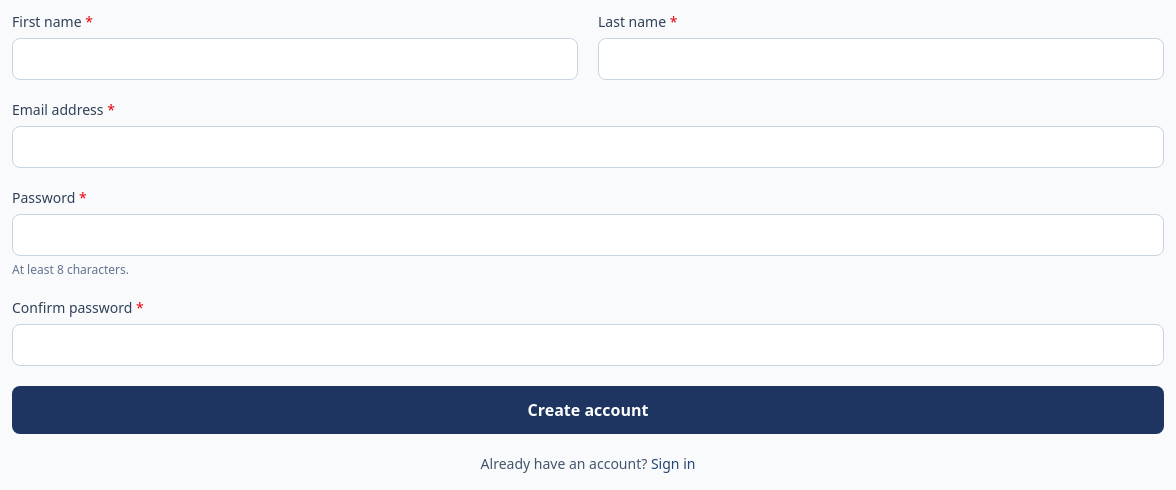
Test: SignupForm › shows a neutral confirmation screen when email confirmation is required
Type "Ada" into the field labelled "First name *". click: (295, 59)
box: [12,38,578,80]
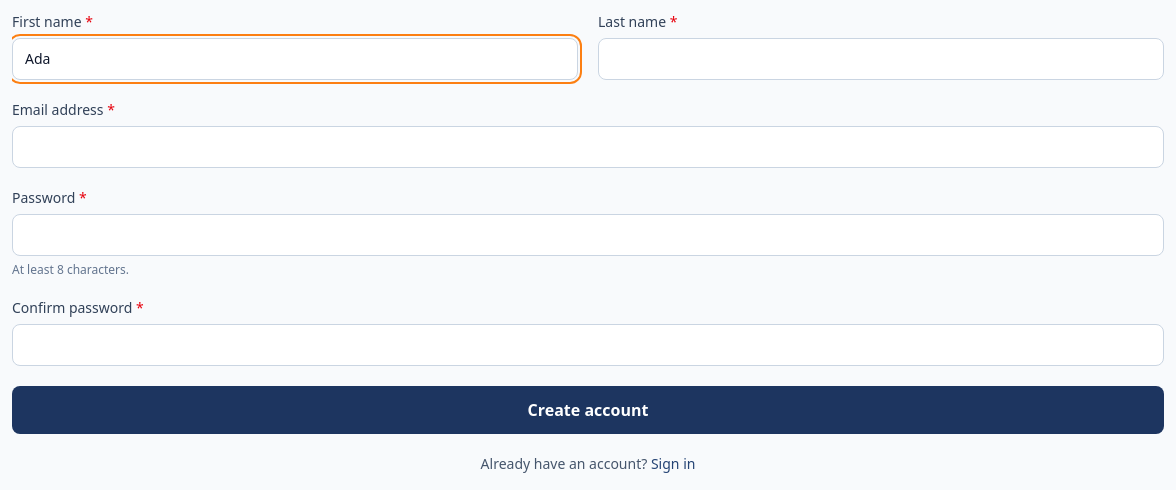
Type "Alpha" into the field labelled "Last name *". click: (881, 59)
box: [598,38,1164,80]
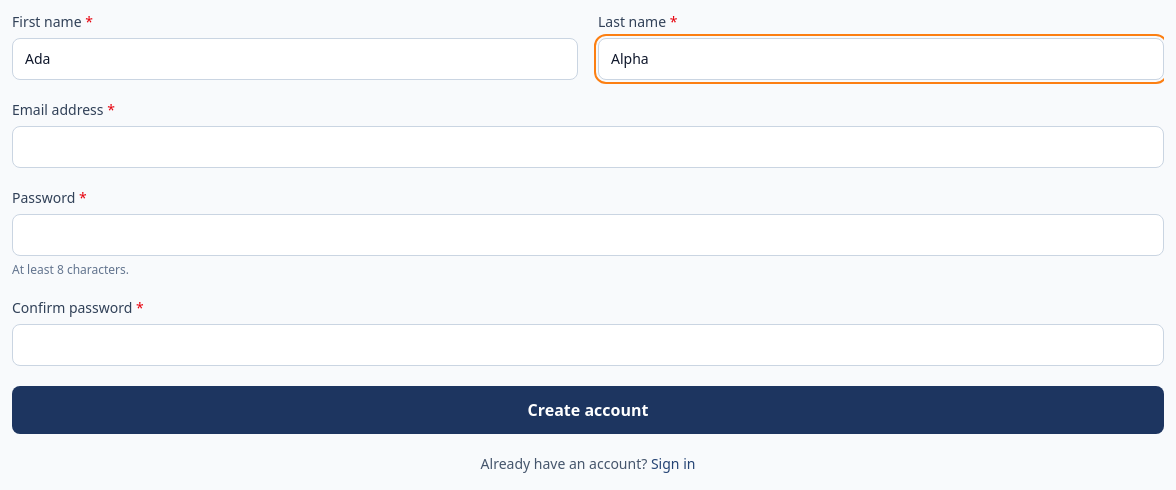
Type "ada@example.com" into the field labelled "Email address *". click: (588, 147)
box: [12,126,1164,168]
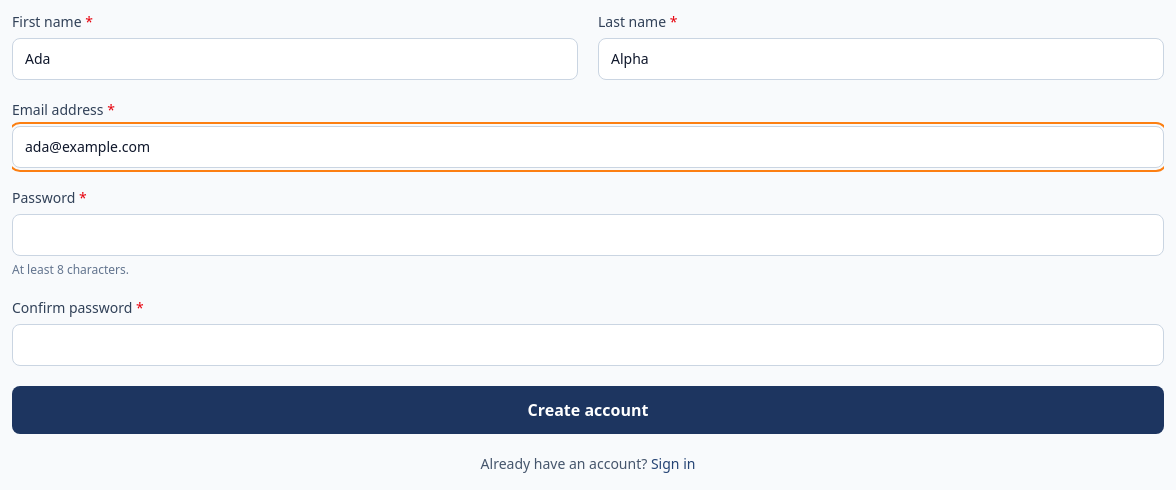
Type "correct-horse" into the password field labelled "Password *". click: (588, 235)
box: [12,214,1164,256]
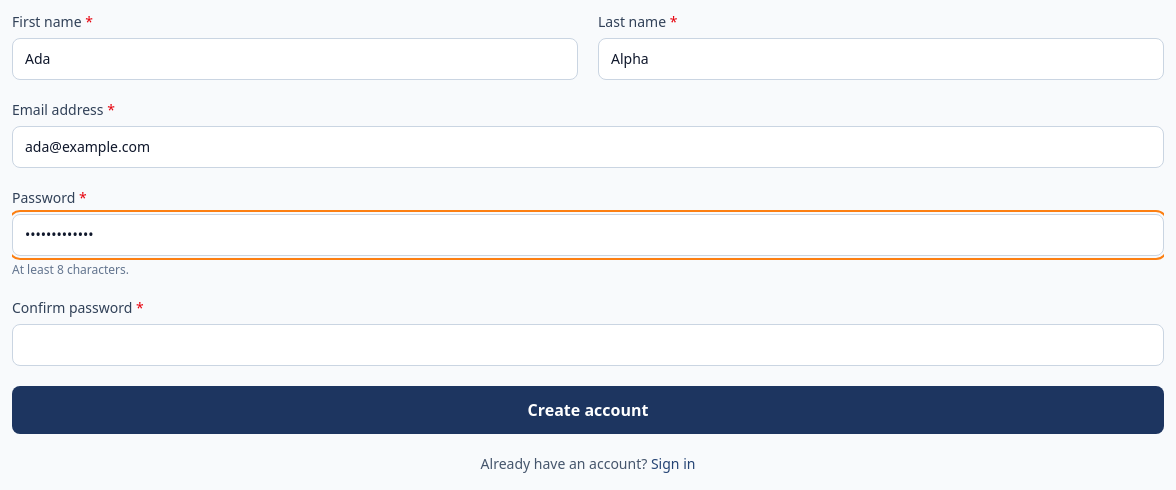
Type "correct-horse" into the password field labelled "Confirm password *". click: (588, 345)
box: [12,324,1164,366]
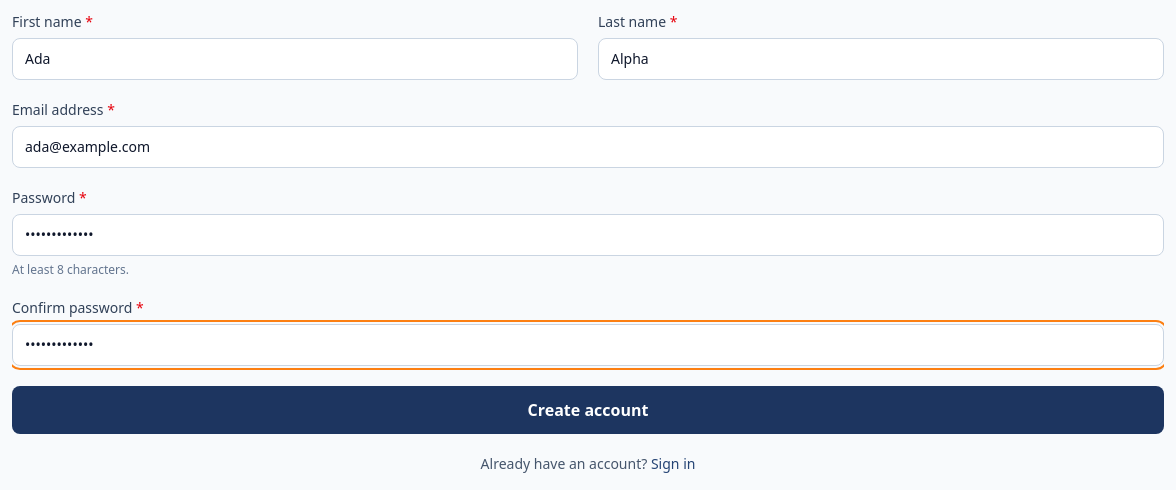
Click the button "Create account". click: (588, 410)
box: [12,386,1164,434]
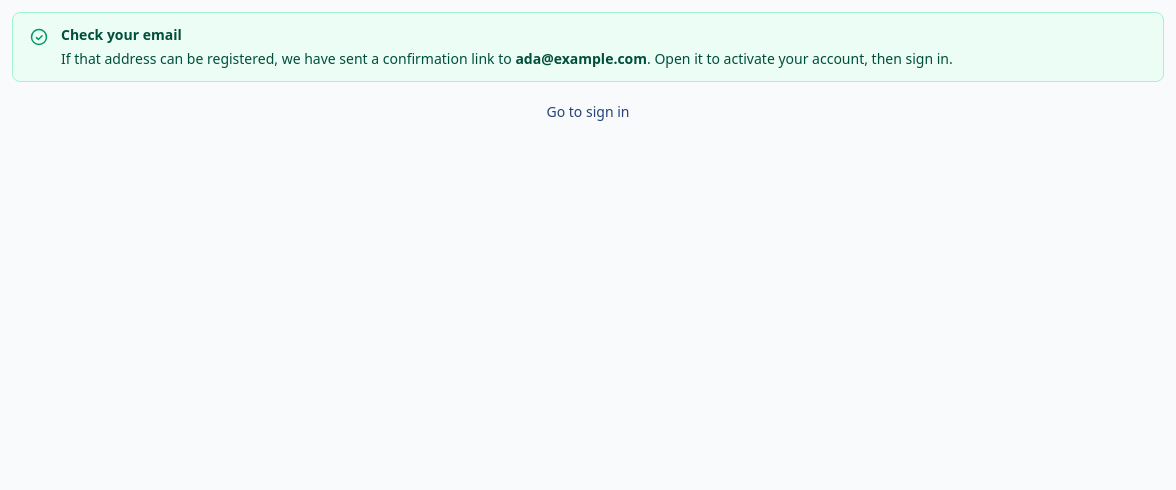
Check: the text "Check your email" is shown, box [61,25,182,44]
Check: the text "If that address can be registered" is shown, box [61,49,515,68]
